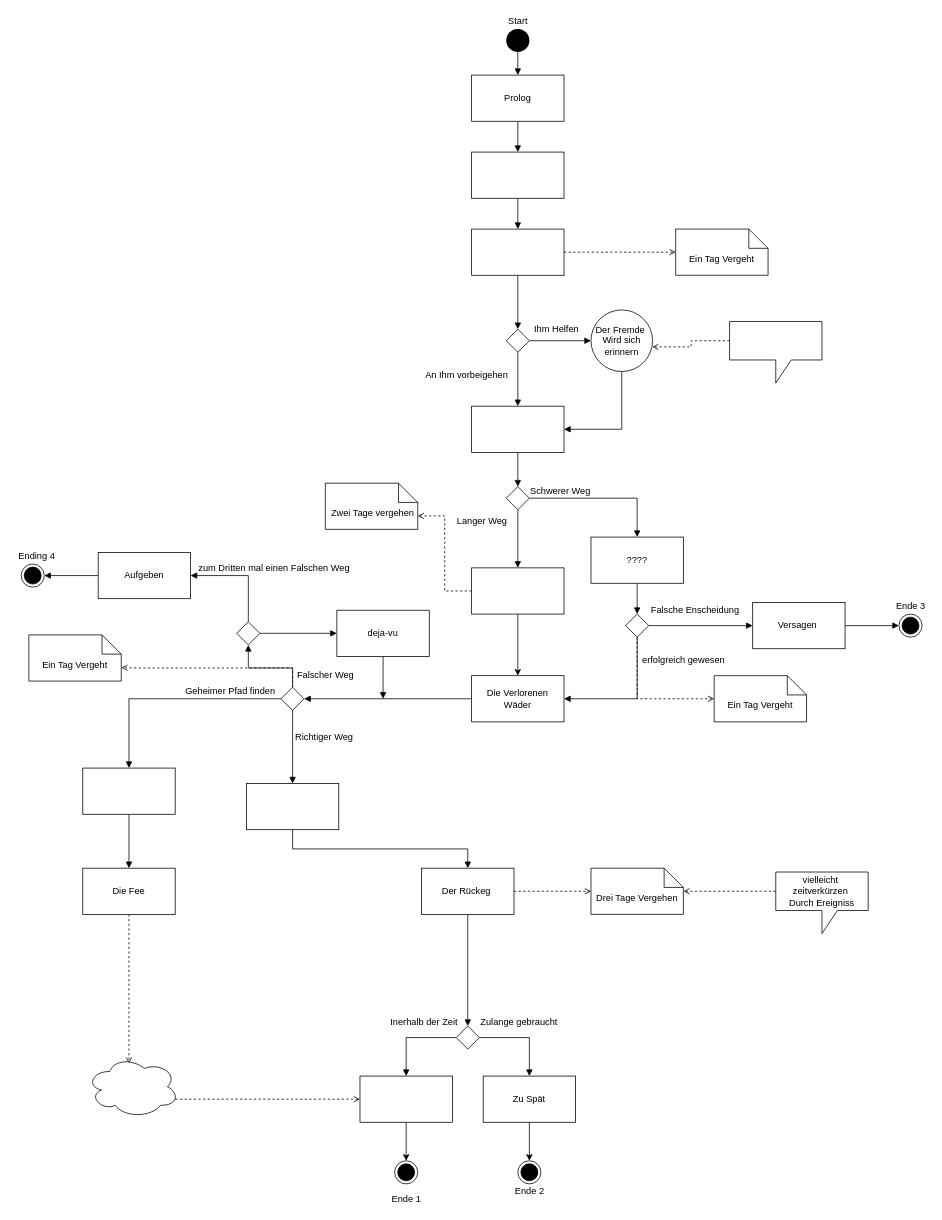
This 942x1220 diagram has some shape labels left out. The centre of each missing label's shape, as x and y in pixels:
Das Heilmittel: the point at 292,806
Der Berg: the point at 517,428
Der Fremde: the point at 517,251
Der Geheime Pfad: the point at 128,790
Der Weg: the point at 517,590
Die Krankeit: the point at 517,174
Erfolg: the point at 405,1098
Mann bekommt irgent einen Vorteil oder Endign: the point at 775,352
